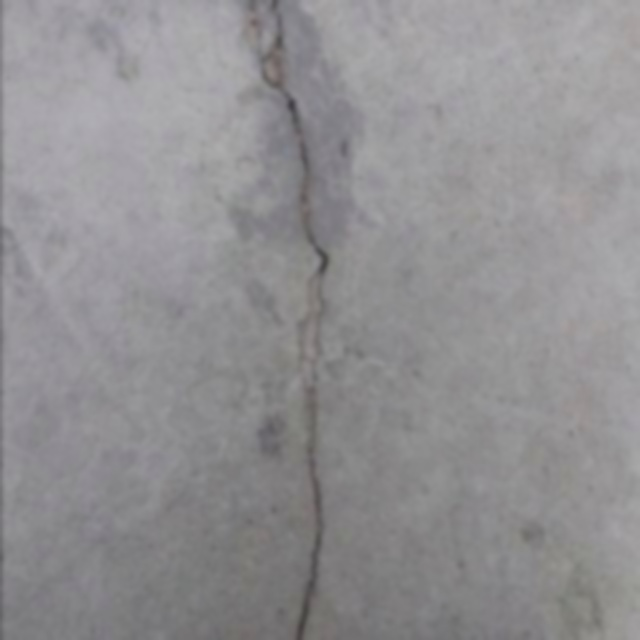SurfaceCrack: (256, 0, 352, 638)
